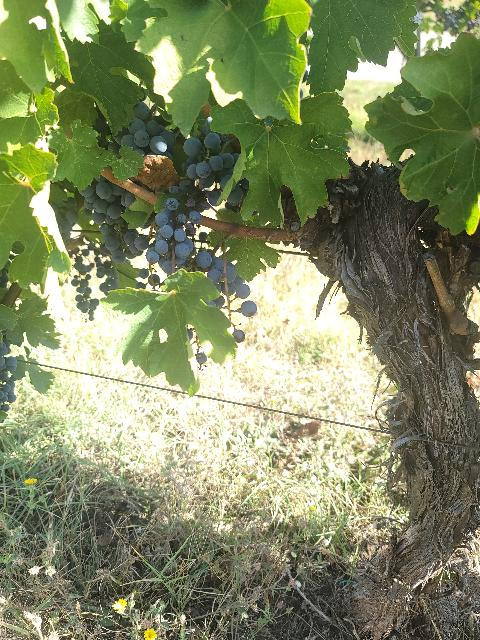grapes: (80, 179, 149, 264), (195, 251, 258, 320), (71, 248, 99, 320)
